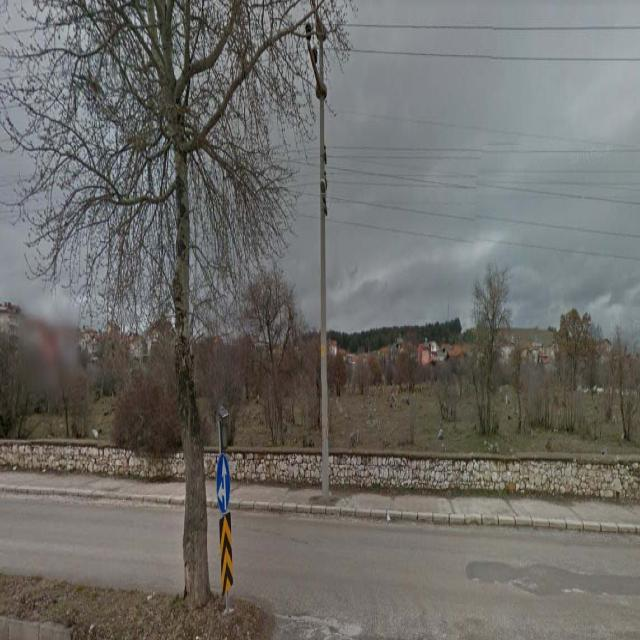ilerisol: (216, 453, 231, 514)
